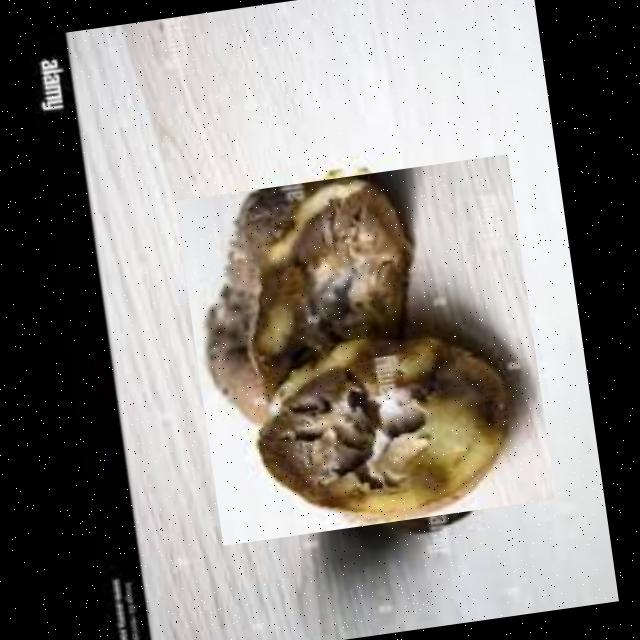Damaged potato: (174, 154, 555, 546)
